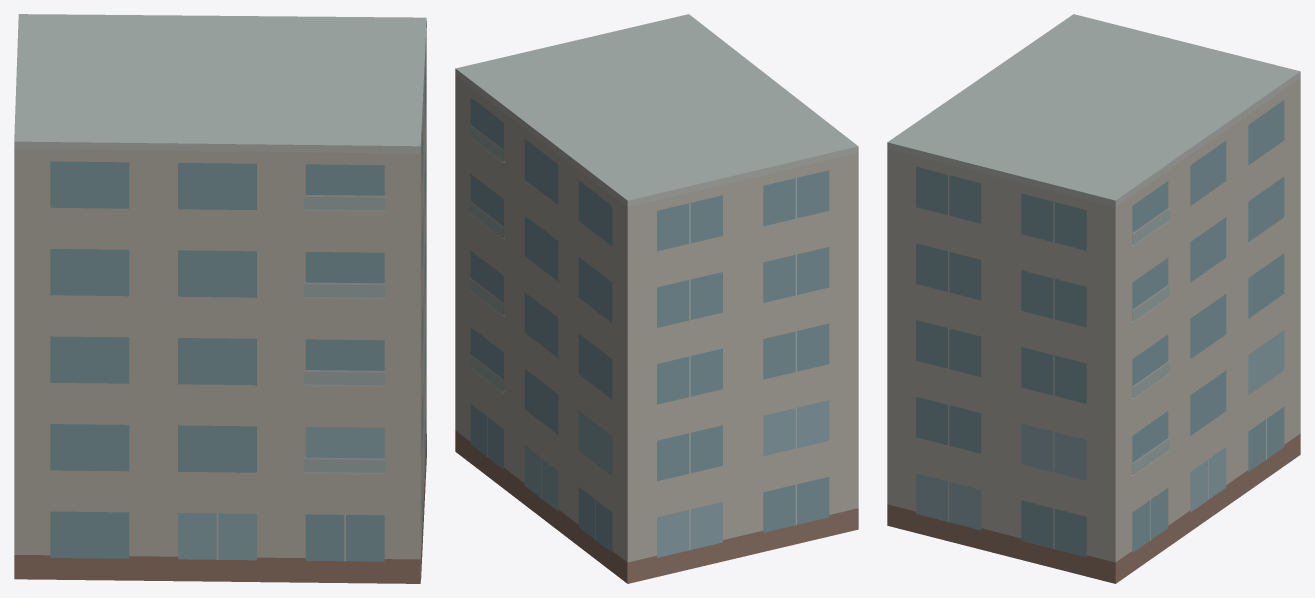
The model's file is survey-upis-32994649.glb.
3 views of the same model, side by side, from view 1: azimuth 30°, elevation 25°; view 2: azimuth 150°, elevation 25°; view 3: azimuth 270°, elevation 25° (orthographic). The views are drawn at different scales.
Visible parts, largest first — view 1: survey-upis-32994649.tmp; view 2: survey-upis-32994649.tmp; view 3: survey-upis-32994649.tmp.
Boxes of the visible parts, bbox=[...] form: survey-upis-32994649.tmp: bbox=[14, 14, 426, 583]; survey-upis-32994649.tmp: bbox=[455, 14, 858, 583]; survey-upis-32994649.tmp: bbox=[887, 14, 1300, 583].
Bounding box in the file's own units: 14.94 × 14.3 × 13.99.
